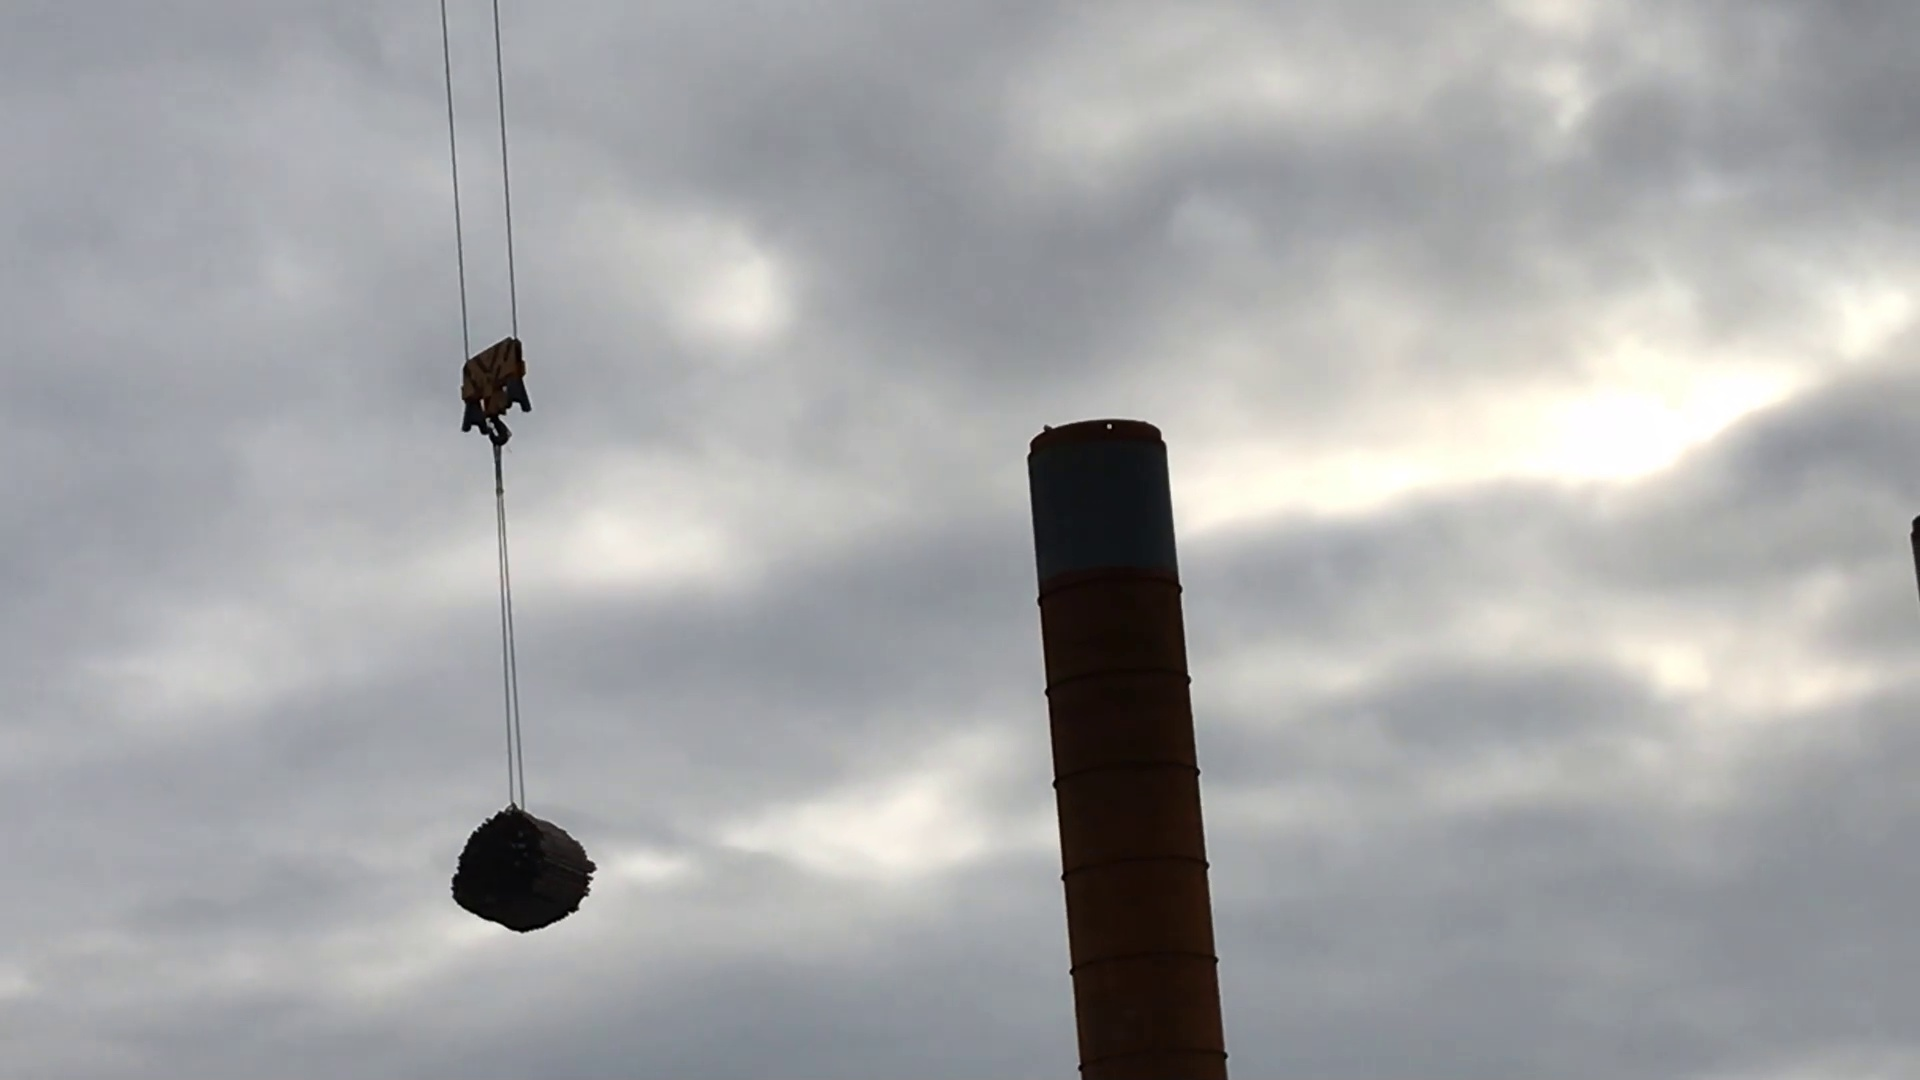hook: (447, 339, 539, 443)
